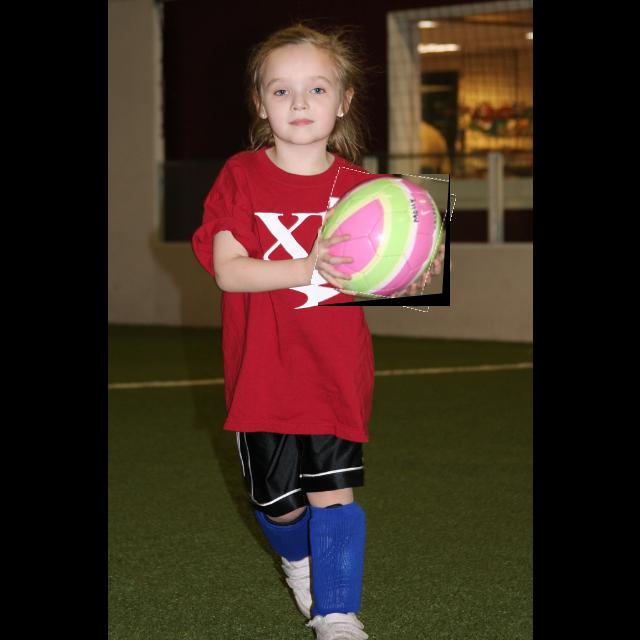Football: (318, 174, 450, 306)
